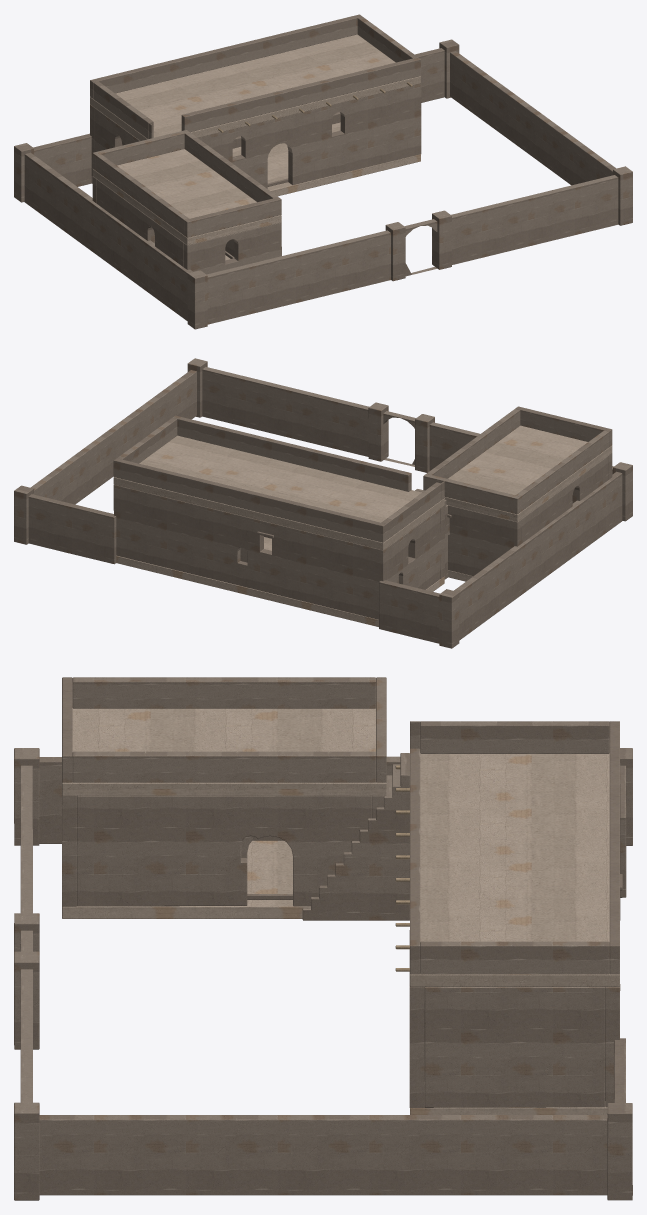
File: court_8.glb
3 renders of one model, top to bottom at view 1: azimuth 30°, elevation 25°; view 2: azimuth 150°, elevation 25°; view 3: azimuth 270°, elevation 25°, orthographic. The views are drawn at different scales.
Parts seen in each view (by area): view 1: court; view 2: court; view 3: court.
Boxes of the visible parts, <box> form: court: <box>14,14,632,329</box>; court: <box>14,358,632,648</box>; court: <box>14,677,632,1200</box>.
Bounding box in the file's own units: 24.51 × 5.51 × 17.55.
Materials: 3 (3 with a texture image).
